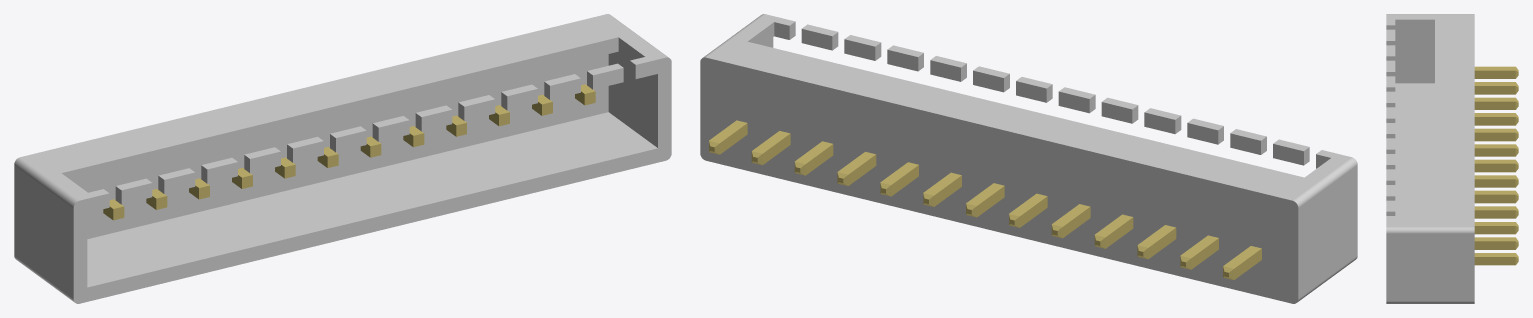
Rendered from jst_xh_13pin.glb.
3 views of the same model, side by side, from view 1: azimuth 30°, elevation 25°; view 2: azimuth 150°, elevation 25°; view 3: azimuth 270°, elevation 25° (orthographic). The views are drawn at different scales.
Parts seen in each view (by area): view 1: world; view 2: world; view 3: world.
Part boxes in pixels (x1,y1,x2,y2): world: (14,14,671,303); world: (700,14,1357,303); world: (1386,14,1518,303).
Bounding box in the file's own units: 34.9 × 5.75 × 9.
